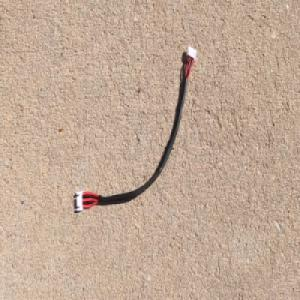Wire: (73, 43, 199, 218)
